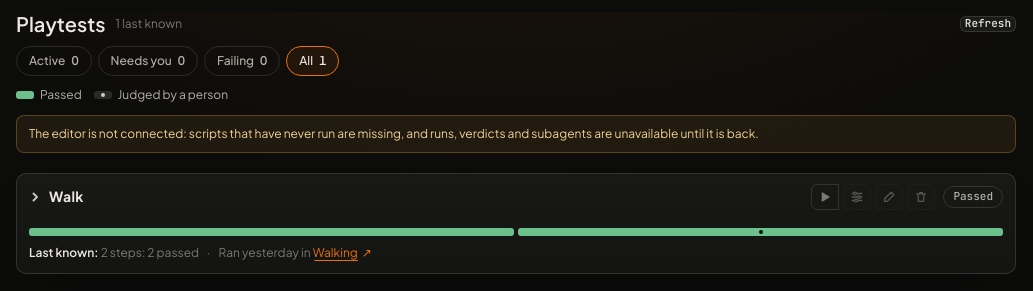
Test case: the Playtests page › says what each empty filter means, and when the editor could not list scripts
expect the text "scripts that have never run are missing" is shown: met, box x1=29 y1=126 x2=759 y2=141
Click the button "Needs you 0": x=148, y=61 x1=98 y1=46 x2=198 y2=76
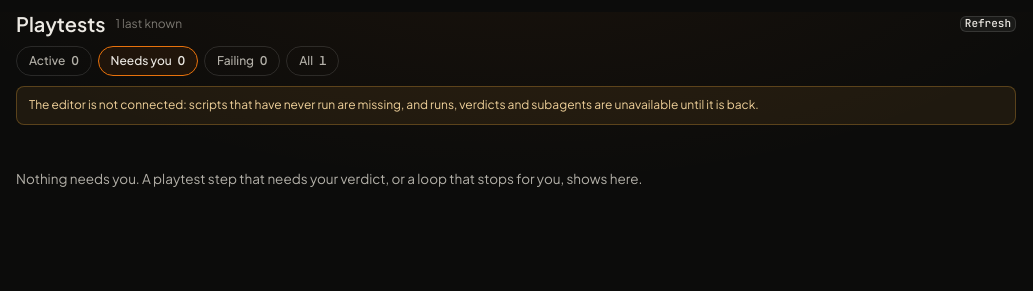
expect the text "Nothing needs you" is shown: met, box x1=16 y1=170 x2=642 y2=187
Click the button "Failing 0": x=242, y=61 x1=204 y1=46 x2=280 y2=76
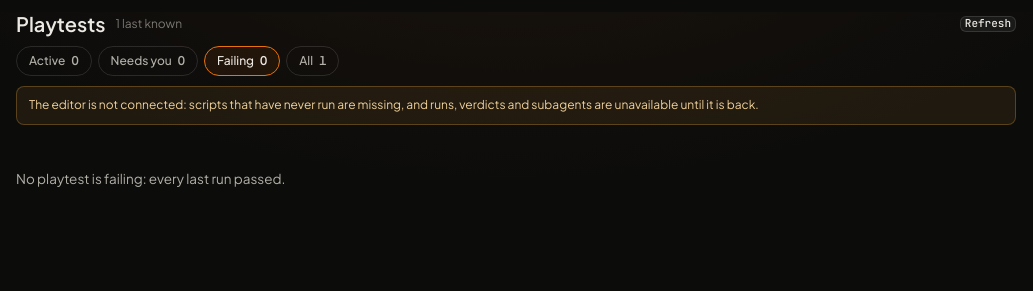
expect the text "No playtest is failing: every last run passed." is shown: met, box x1=16 y1=170 x2=285 y2=187
